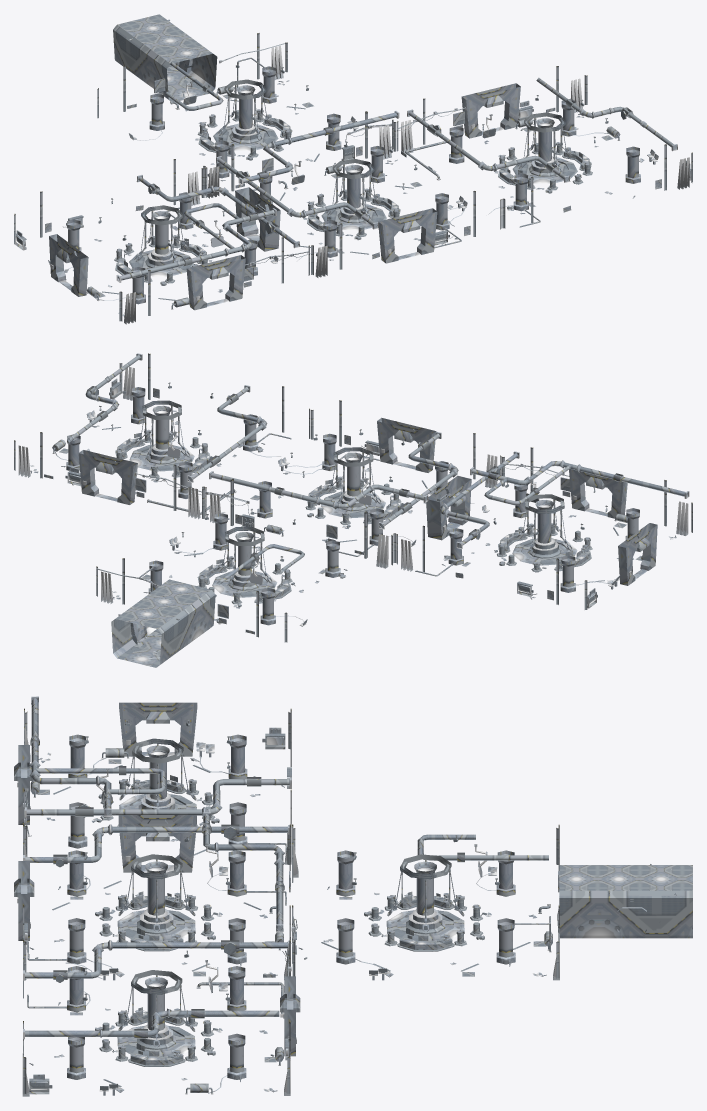
The model's file is Combined_Mesh_root_scene__10_7ad9d44b__ZombiesII_laboratory_03_d_5a0f8016_c1f257_part001.obj.
3 renders of one model, top to bottom at view 1: azimuth 30°, elevation 25°; view 2: azimuth 150°, elevation 25°; view 3: azimuth 270°, elevation 25°, orthographic. The views are drawn at different scales.
Size of the model in its own units: 124 by 10.34 by 102.
541 materials, 541 textured.
